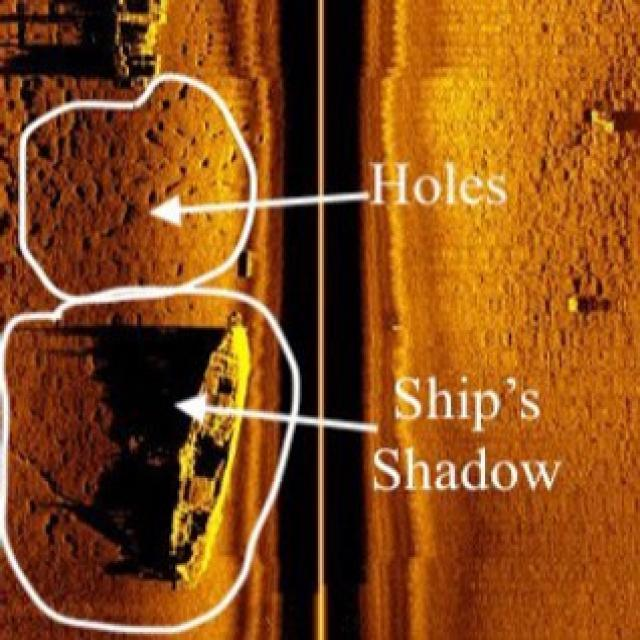shipwreck: (161, 310, 250, 586), (98, 0, 166, 91)
